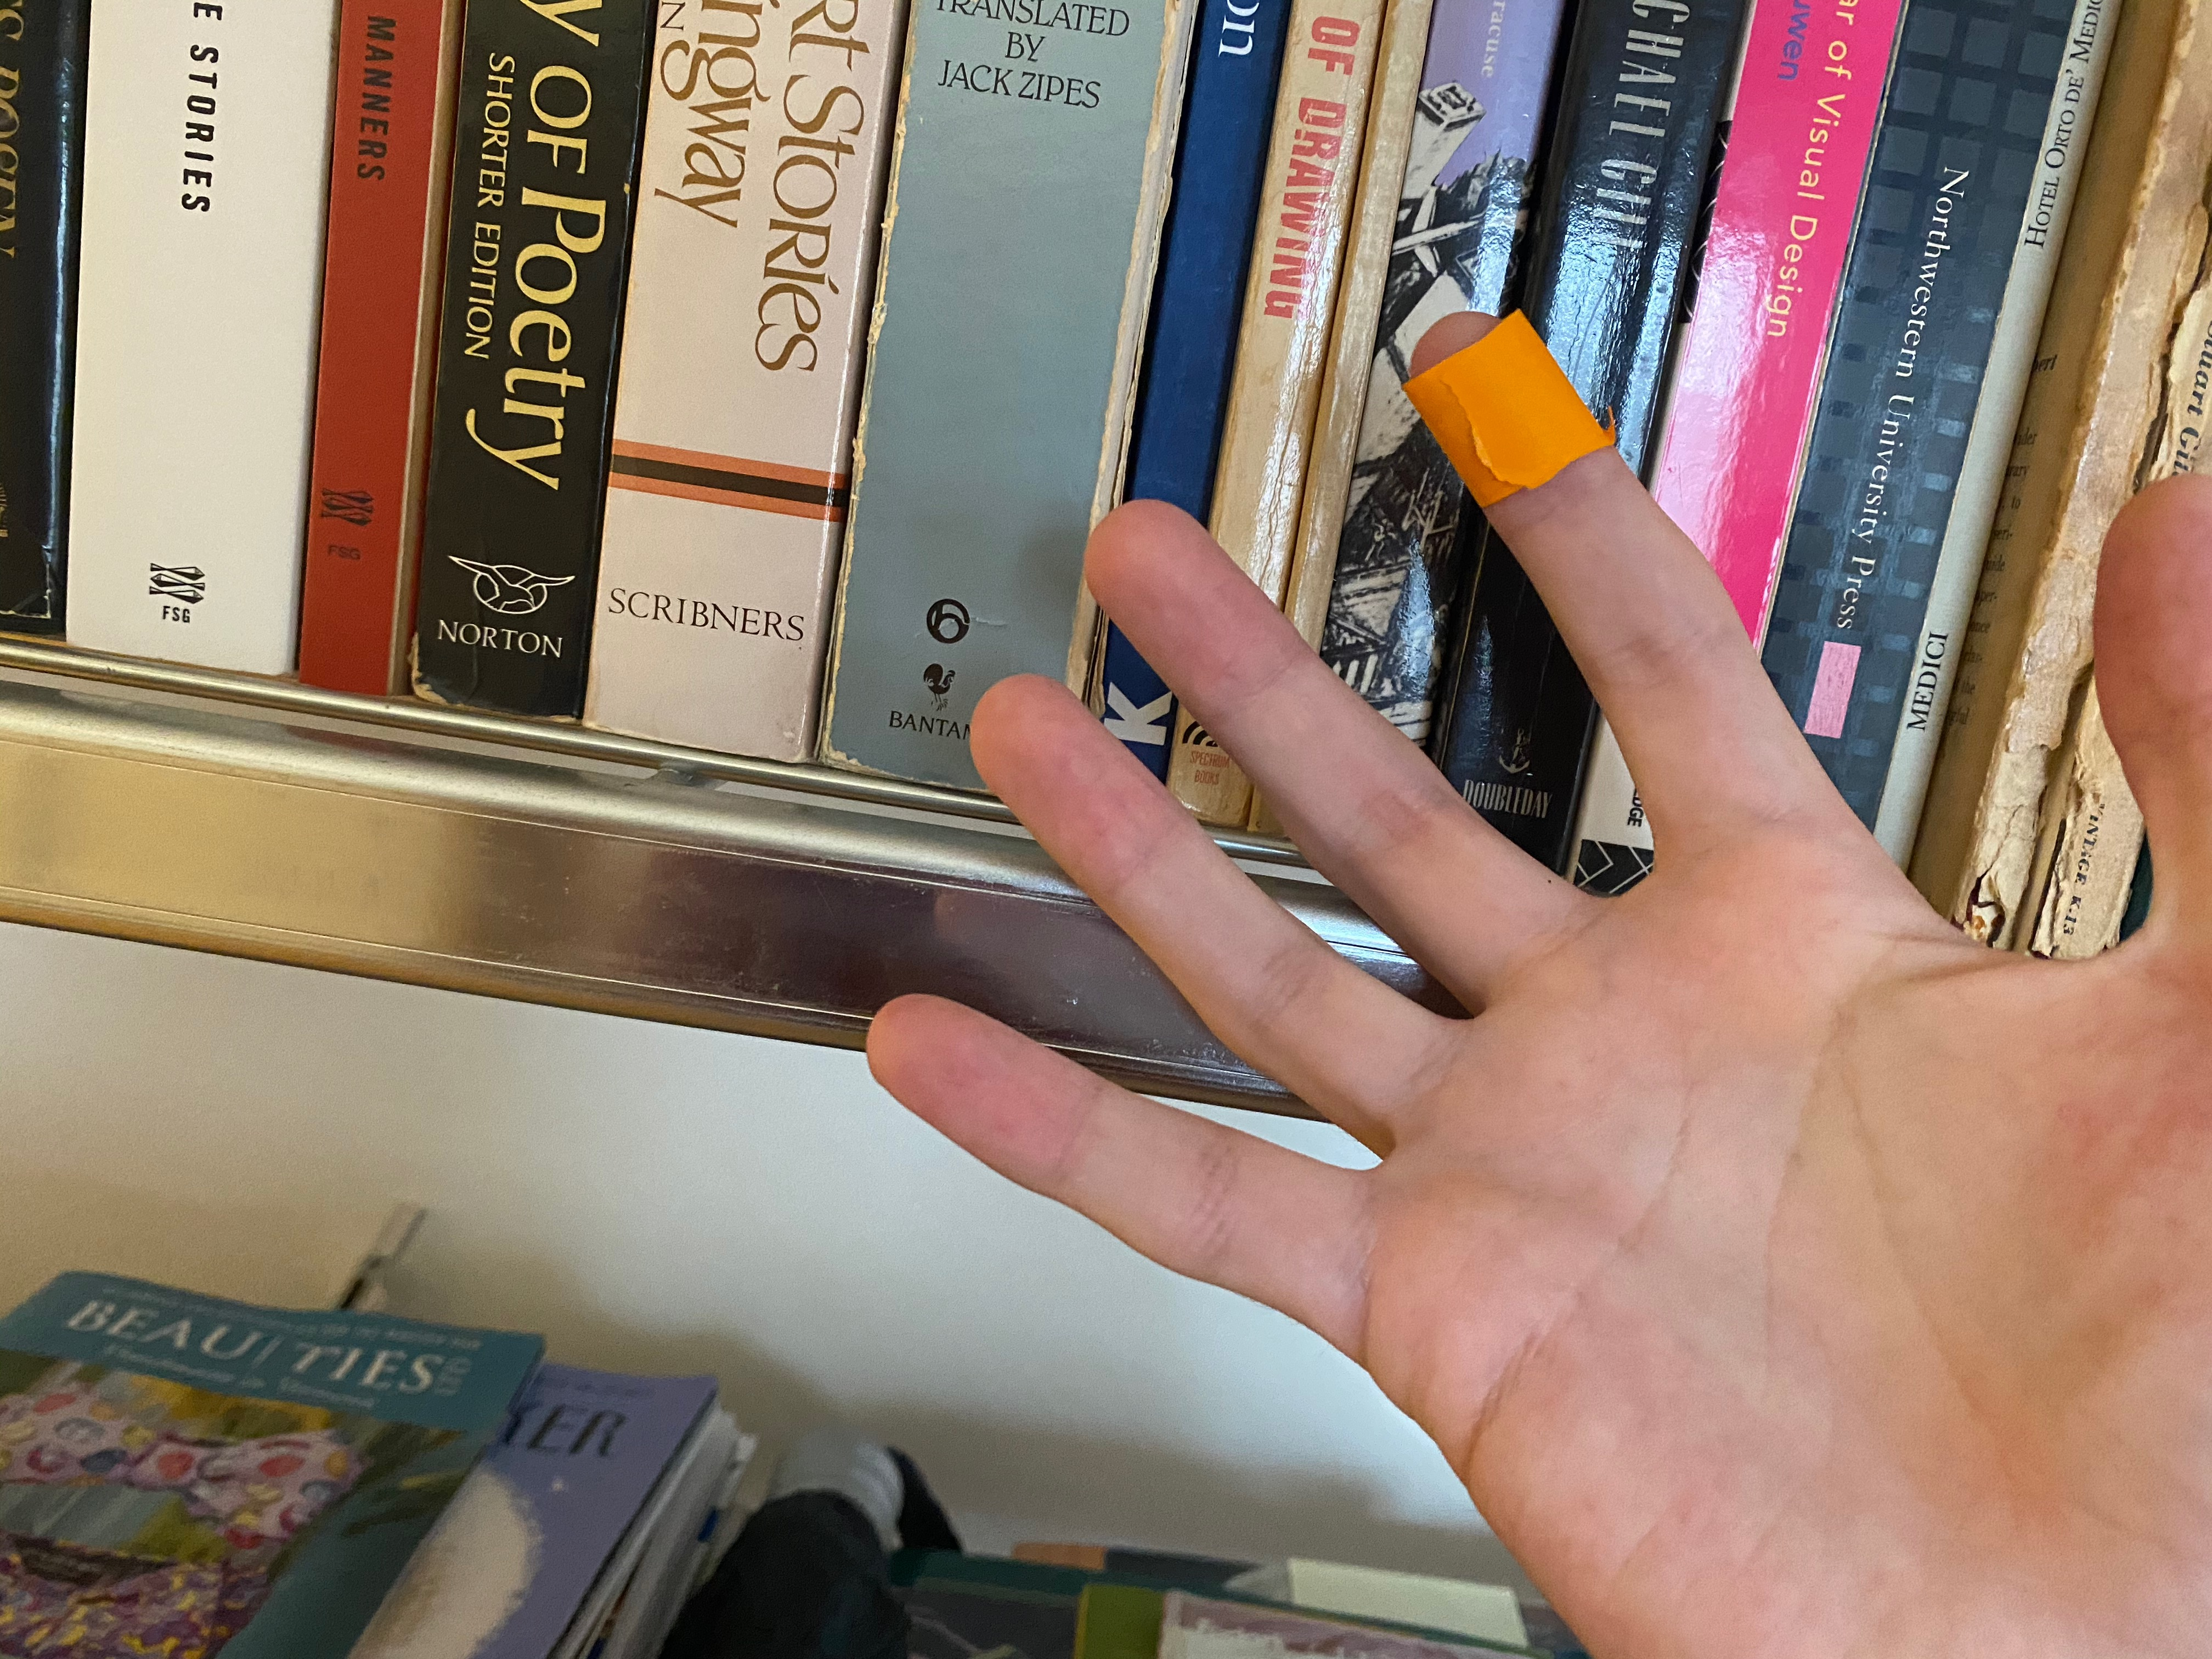fingertip: (1392, 295, 1630, 540)
